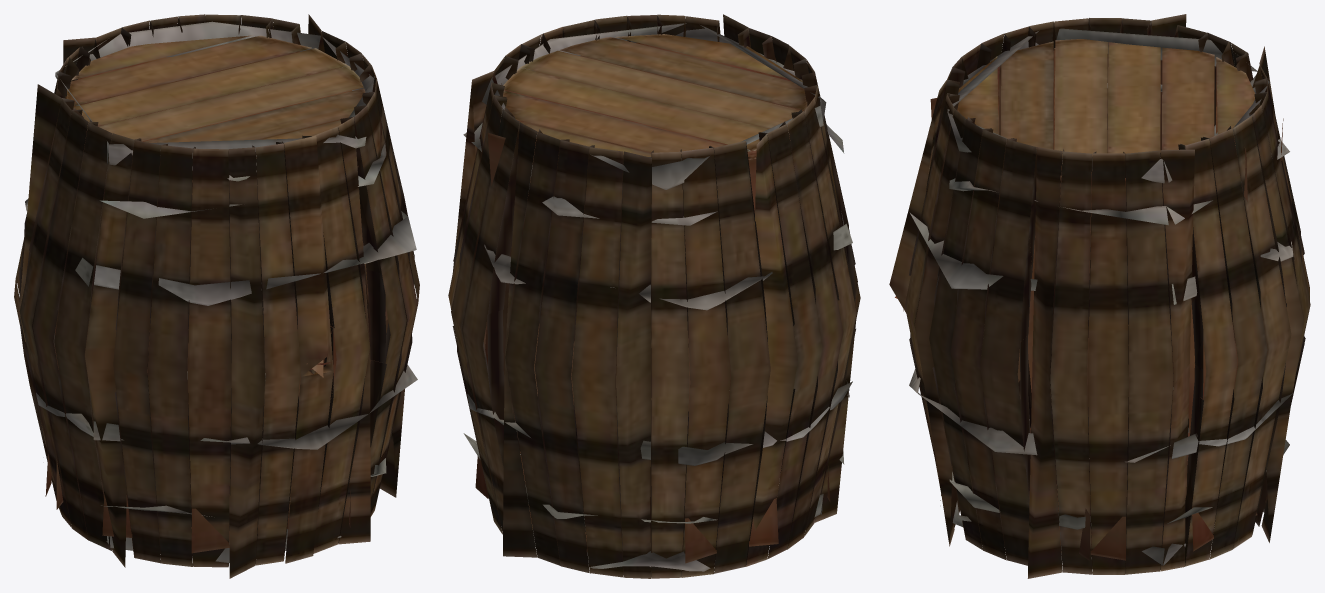
The model's file is ph_wine_barrel_01.glb.
The picture shows the model from 3 angles, left to right: view 1: azimuth 30°, elevation 25°; view 2: azimuth 150°, elevation 25°; view 3: azimuth 270°, elevation 25°; orthographic projection.
Visible parts, largest first — view 1: wine_barrel_01_Lid; view 2: wine_barrel_01_Lid; view 3: wine_barrel_01_Lid.
Part boxes in pixels (x1=…): wine_barrel_01_Lid: x1=14, y1=14, x2=419, y2=578; wine_barrel_01_Lid: x1=448, y1=14, x2=860, y2=578; wine_barrel_01_Lid: x1=889, y1=14, x2=1310, y2=578.
Size of the model in its own units: 0.761 by 0.8826 by 0.7875.
Materials: 1 (1 with a texture image).
